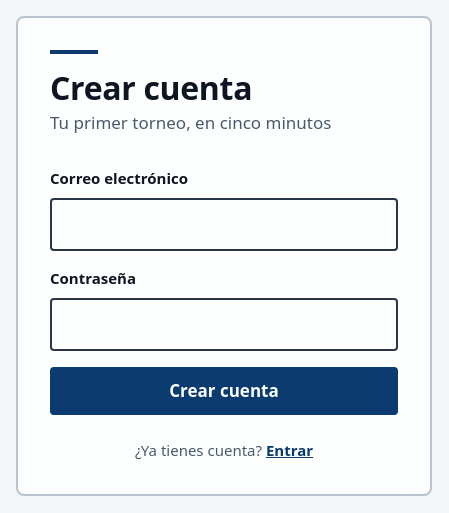
Scenario: SignUpRoute › does not reveal that an address is already registered
Type "yaexiste@example.es" into the field labelled "Correo electrónico". click: (224, 224)
box: left=50, top=198, right=398, bottom=251
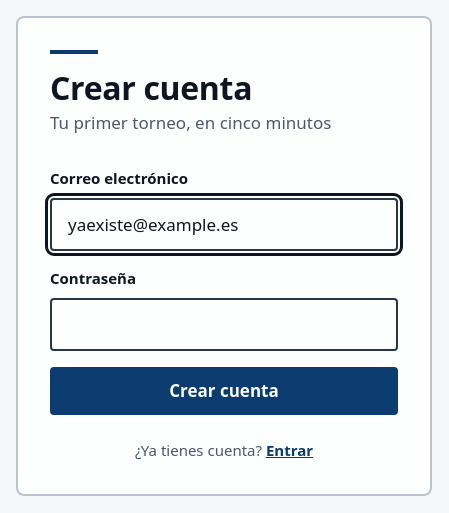
Type "contrasena-larga" into the password field labelled "Contraseña". click: (224, 324)
box: left=50, top=298, right=398, bottom=351
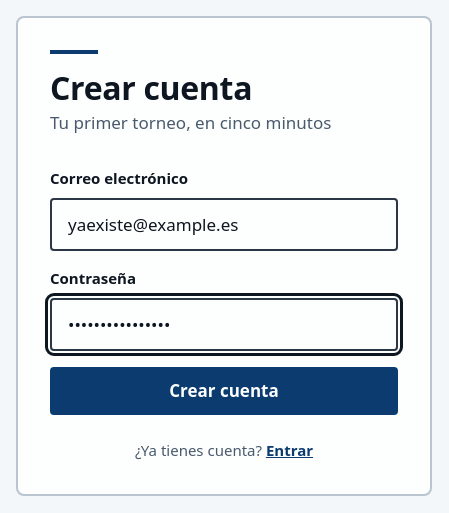
Click the button "Crear cuenta". click: (224, 391)
box: left=50, top=367, right=398, bottom=415
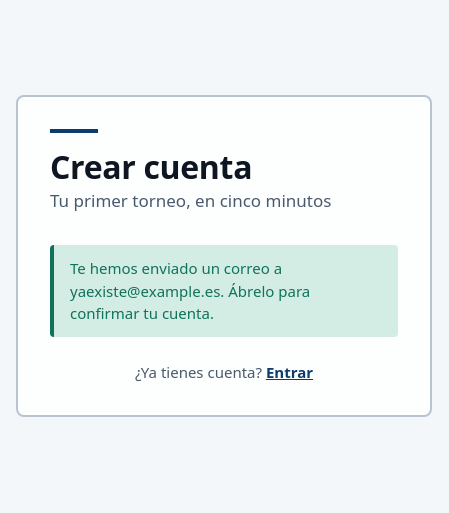
Expected: the message shows "Te hemos enviado un correo a yaexiste@example.es.", left=70, top=258, right=310, bottom=323
